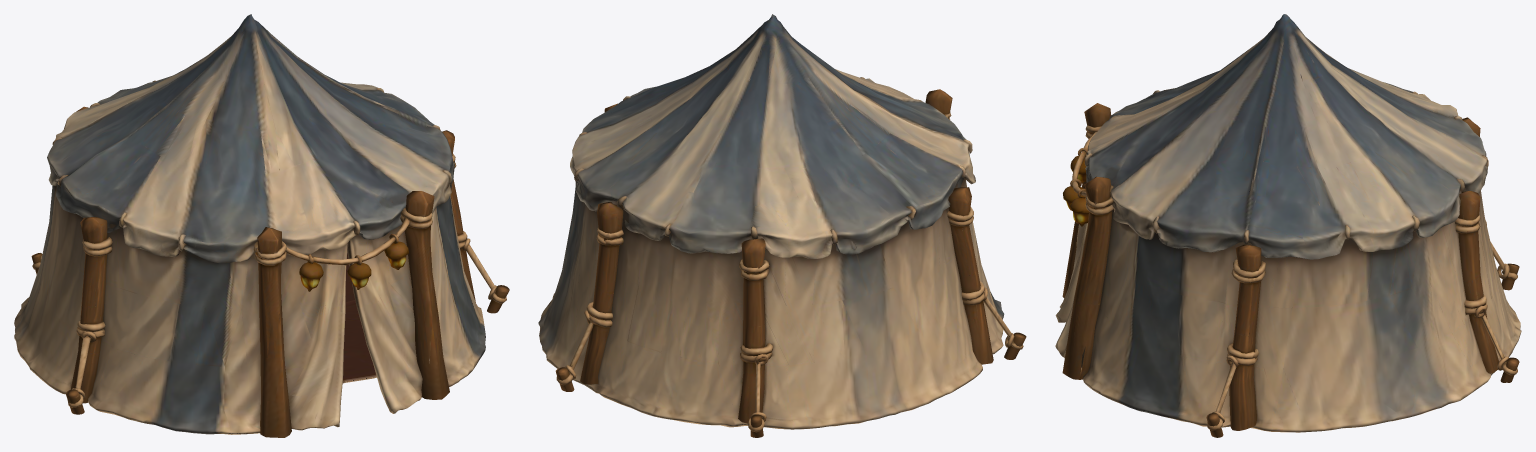
File: fairgrounds.glb
The picture shows the model from 3 angles, left to right: view 1: azimuth 30°, elevation 25°; view 2: azimuth 150°, elevation 25°; view 3: azimuth 270°, elevation 25°; orthographic projection.
Parts seen in each view (by area): view 1: geometry_0; view 2: geometry_0; view 3: geometry_0.
Part boxes in pixels (left/top/right/bottom): geometry_0: left=14, top=14, right=509, bottom=437; geometry_0: left=538, top=14, right=1026, bottom=437; geometry_0: left=1055, top=14, right=1521, bottom=437.
Bounding box in the file's own units: 0.9575 × 0.6709 × 0.8804.
1 material, 1 textured.
